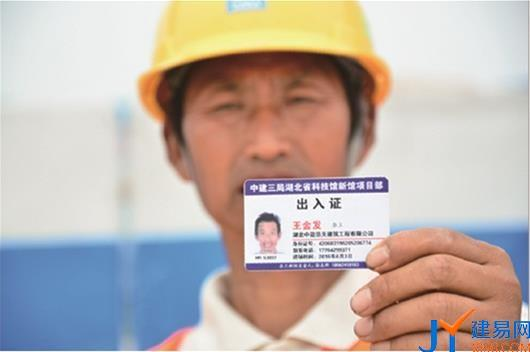helmet: (134, 1, 395, 127)
